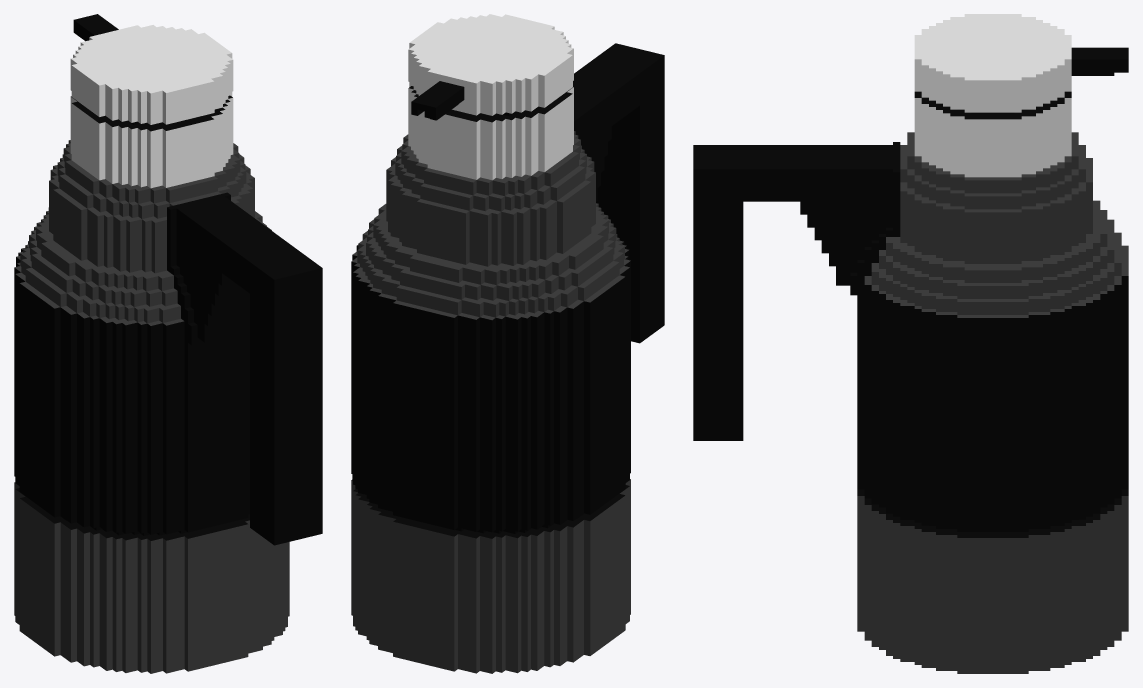
Rendered from SteelCarafeThermos.fbx.
3 renders of one model, left to right at view 1: azimuth 30°, elevation 25°; view 2: azimuth 150°, elevation 25°; view 3: azimuth 270°, elevation 25°, orthographic. The views are drawn at different scales.
Parts seen in each view (by area): view 1: Polygon_1; view 2: Polygon_1; view 3: Polygon_1.
Boxes of the visible parts, x1,y1,x2,y2 form: Polygon_1: (14,14,322,673); Polygon_1: (351,14,664,673); Polygon_1: (693,14,1128,673).
Bounding box in the file's own units: 3.8 × 8.8 × 6.1.
Materials: 1 (1 with a texture image).
